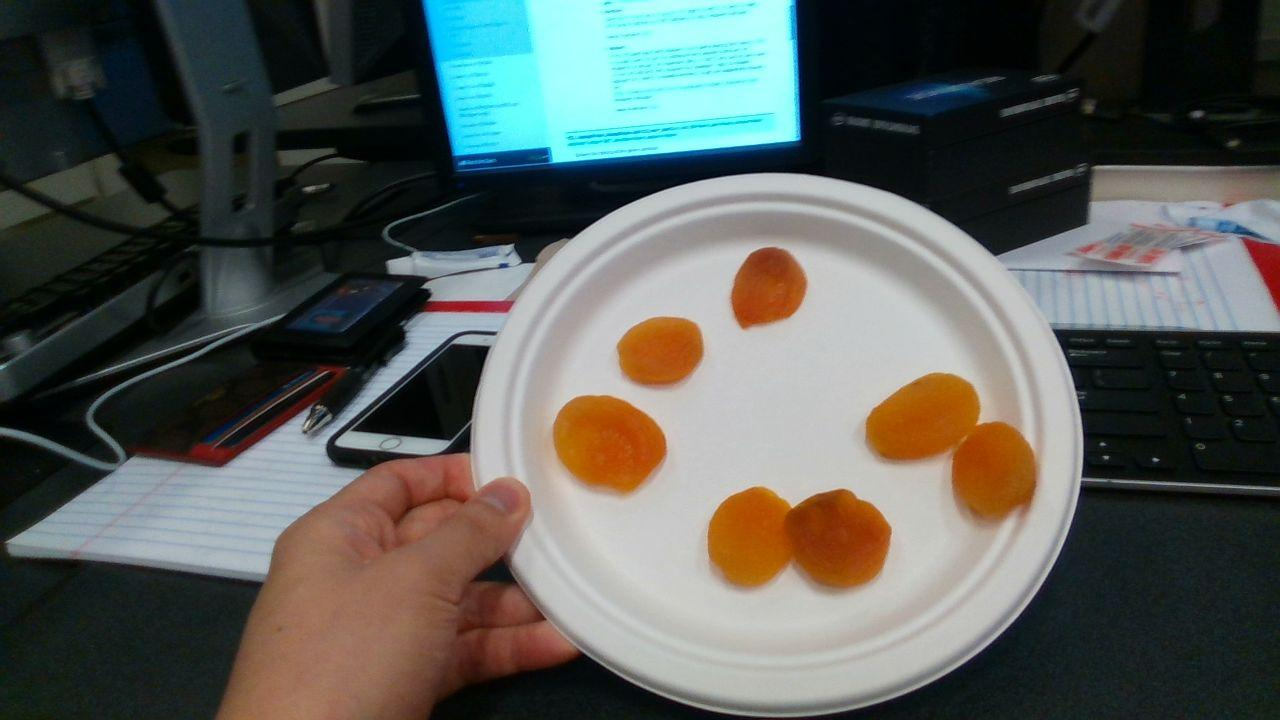apricot: (554, 396, 666, 492), (868, 372, 980, 461), (787, 491, 891, 586), (708, 489, 793, 587), (952, 422, 1034, 517), (731, 248, 806, 327), (619, 318, 703, 384)
plate: (472, 174, 1082, 714)
